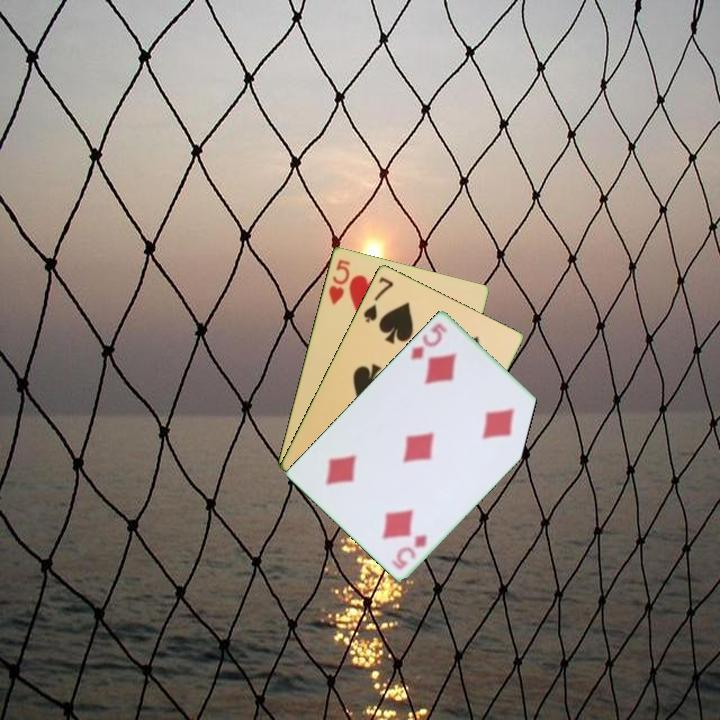5d: (407, 319, 450, 362), (388, 530, 430, 572)
5h: (325, 255, 353, 308)
7s: (360, 273, 396, 325)
